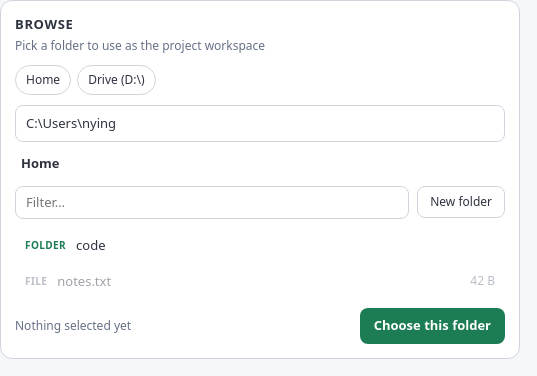
PathBrowser › navigates into a folder when its row is clicked
Check: the 1st button "Home" is shown, box [15, 64, 71, 94]
Click the button with aria-label "Open folder code". click: {"x": 46, "y": 245}
box: [15, 229, 505, 262]
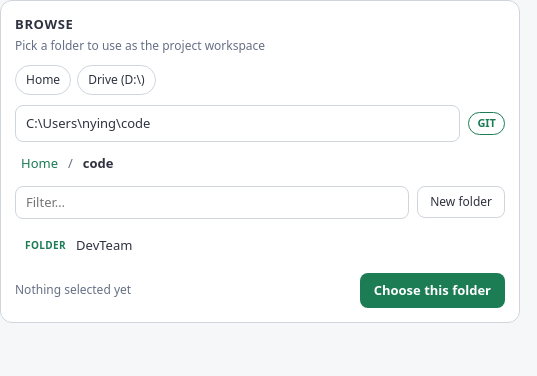
Check: the button with aria-label "Open folder DevTeam" is shown, box [15, 229, 505, 262]
Check: the field named "path" holds "C:\\Users\\nying\\code", box [15, 104, 460, 142]
Check: the text "git" is shown, box [468, 112, 505, 134]
